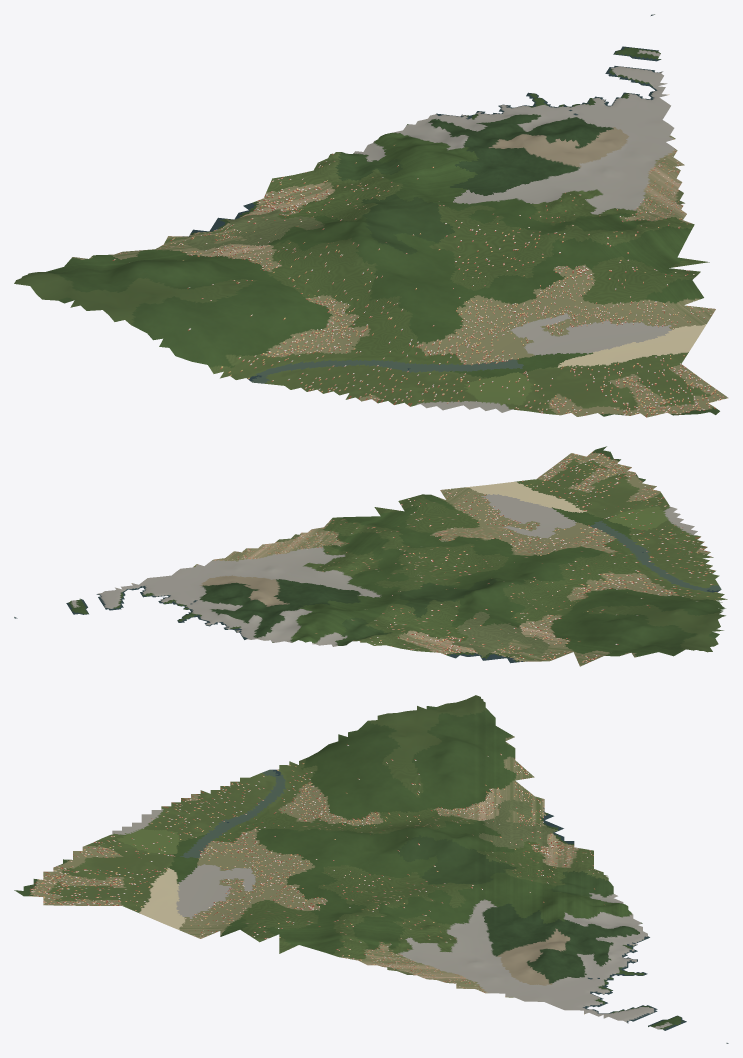
The model's file is SM_Fondale_Colline_E_LOD1.fbx.
The picture shows the model from 3 angles, top to bottom: view 1: azimuth 30°, elevation 25°; view 2: azimuth 150°, elevation 25°; view 3: azimuth 270°, elevation 25°; orthographic projection. The views are drawn at different scales.
Parts seen in each view (by area): view 1: SM_Fondale_Colline_E_LOD1; view 2: SM_Fondale_Colline_E_LOD1; view 3: SM_Fondale_Colline_E_LOD1.
Boxes of the visible parts, x1,y1,x2,y2 form: SM_Fondale_Colline_E_LOD1: (14,14,728,417); SM_Fondale_Colline_E_LOD1: (14,446,727,666); SM_Fondale_Colline_E_LOD1: (14,695,728,1043).
Bounding box in the file's own units: 924000 × 873000 × 41855.
1 material, 1 textured.
